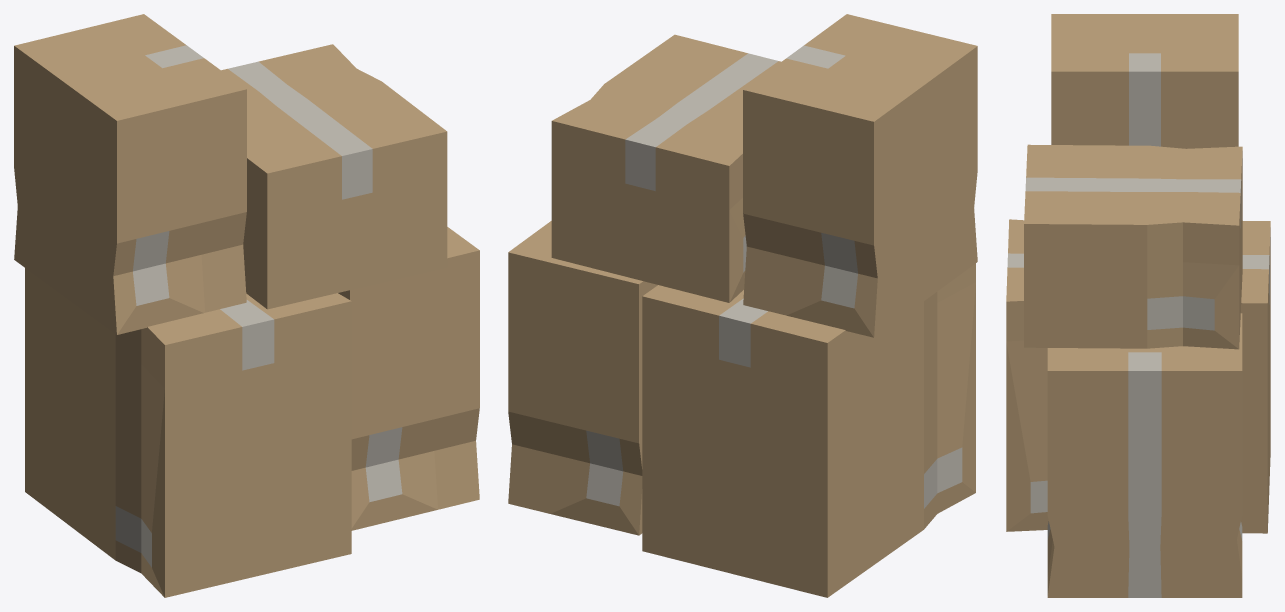
File: cardboard-boxes.glb
The picture shows the model from 3 angles, left to right: view 1: azimuth 30°, elevation 25°; view 2: azimuth 150°, elevation 25°; view 3: azimuth 270°, elevation 25°; orthographic projection. The views are drawn at different scales.
Visible parts, largest first — view 1: cardboard-boxes; view 2: cardboard-boxes; view 3: cardboard-boxes.
Boxes of the visible parts, box(x1,y1,x2,y2) form: cardboard-boxes: box(14, 14, 479, 597); cardboard-boxes: box(508, 14, 977, 597); cardboard-boxes: box(1006, 14, 1270, 597).
Size of the model in its own units: 0.7452 by 0.92 by 0.5194.
